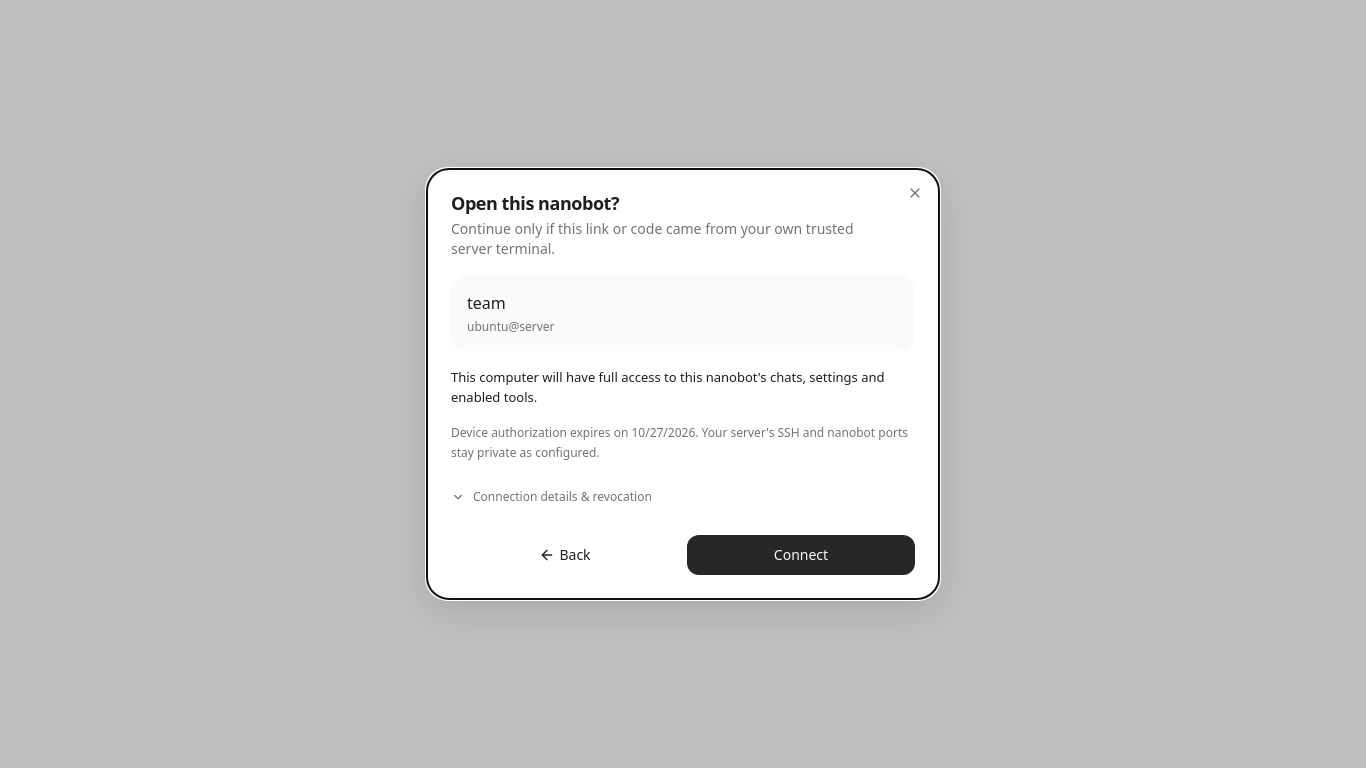
Test case: quick pairing › uses the same copyable revocation code block in pairing details
Expected: the heading "Open this nanobot?" is shown, [451,193,619,215]
What coordinates should you click on to do the following:
click the button "Connection details & revocation"
I would click on:
 (562, 496)
Its box is [451,479,915,515].
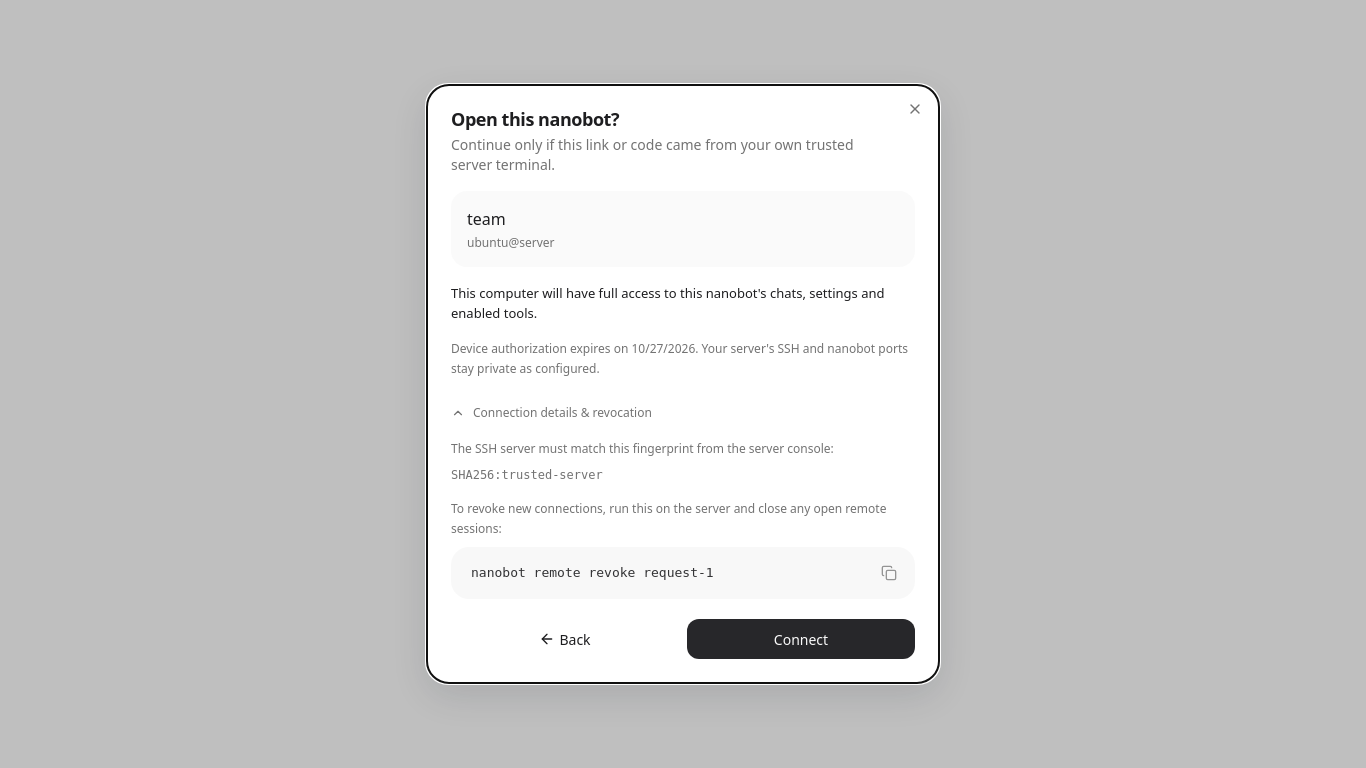
Expected: the text "nanobot remote revoke request-1" is shown, [471,565,714,580]
What coordinates should you click on to do the following:
click the button named "Copy code"
I would click on:
 (889, 573)
Its box is [873,557,905,589].
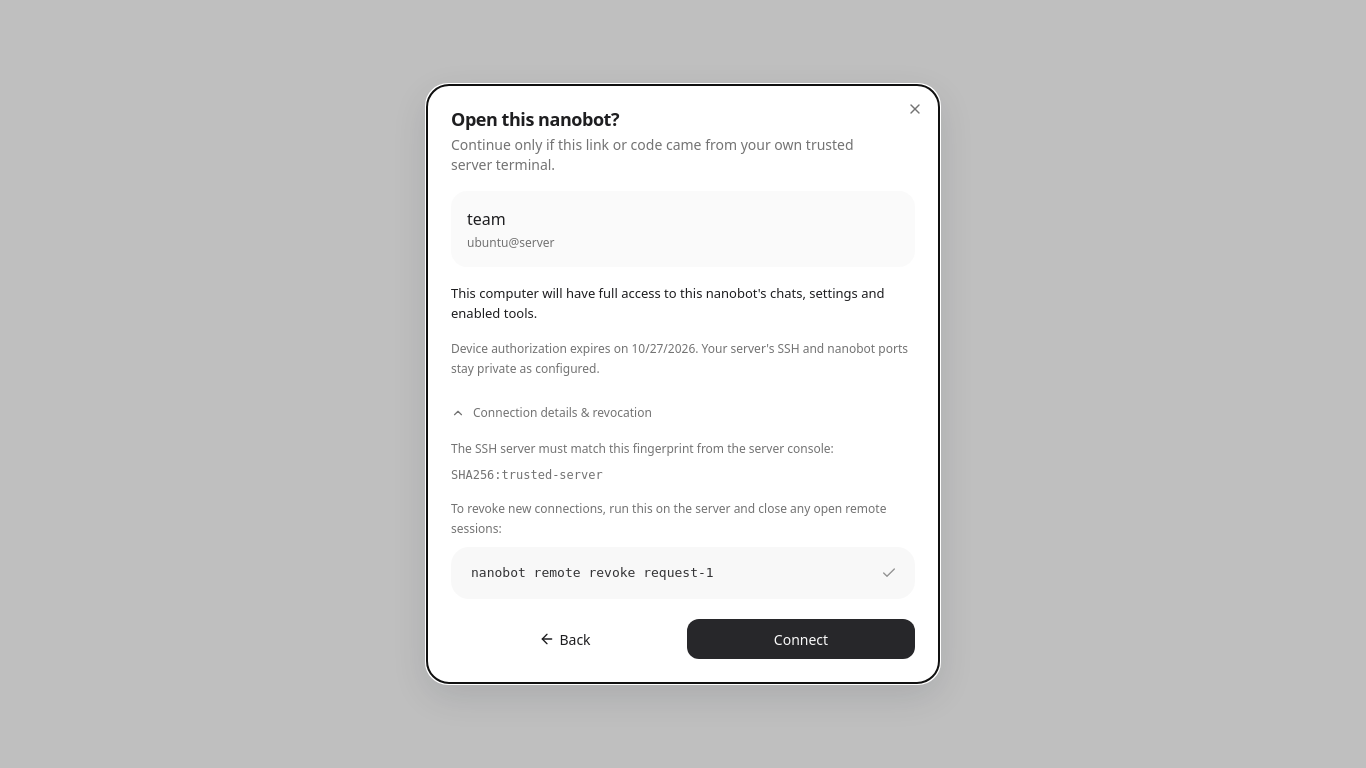
Expected: the button named "Copied" is shown, [873,557,905,589]
